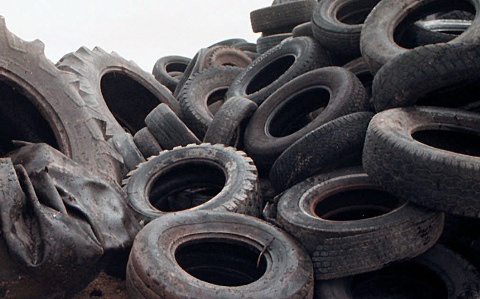tire: (48, 39, 210, 173), (121, 209, 319, 299), (267, 177, 459, 269), (356, 102, 480, 211), (225, 62, 376, 149), (102, 142, 266, 222), (363, 2, 480, 78), (209, 32, 337, 96), (306, 1, 424, 67)
